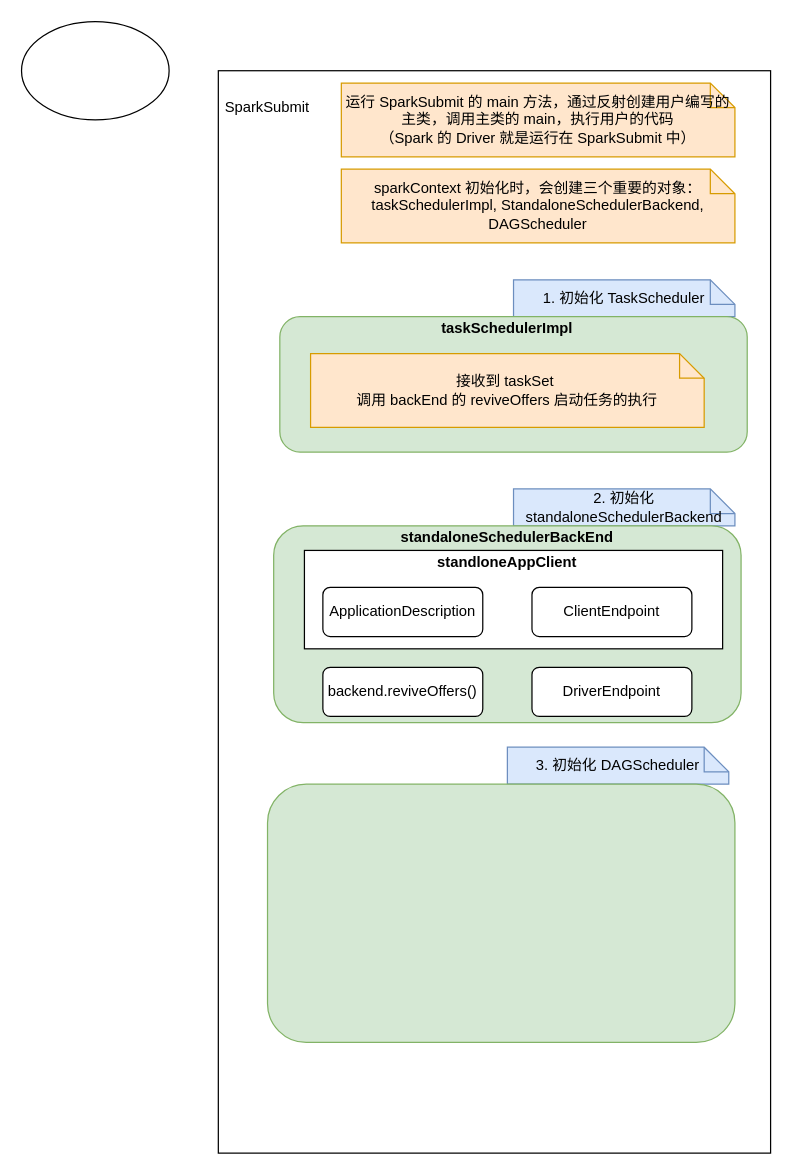
This 792x1175 diagram has some shape labels left out. The shapes that lost their labels are listed below. From the top down, each one's centre as x and y in pixels, then its label:
point (94, 70): Client spark-submit --class XXX /a/b/c.jar
point (500, 912): DAGScheduler
